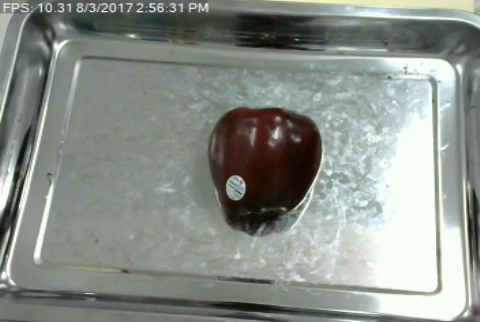Apple: (202, 102, 329, 224)
